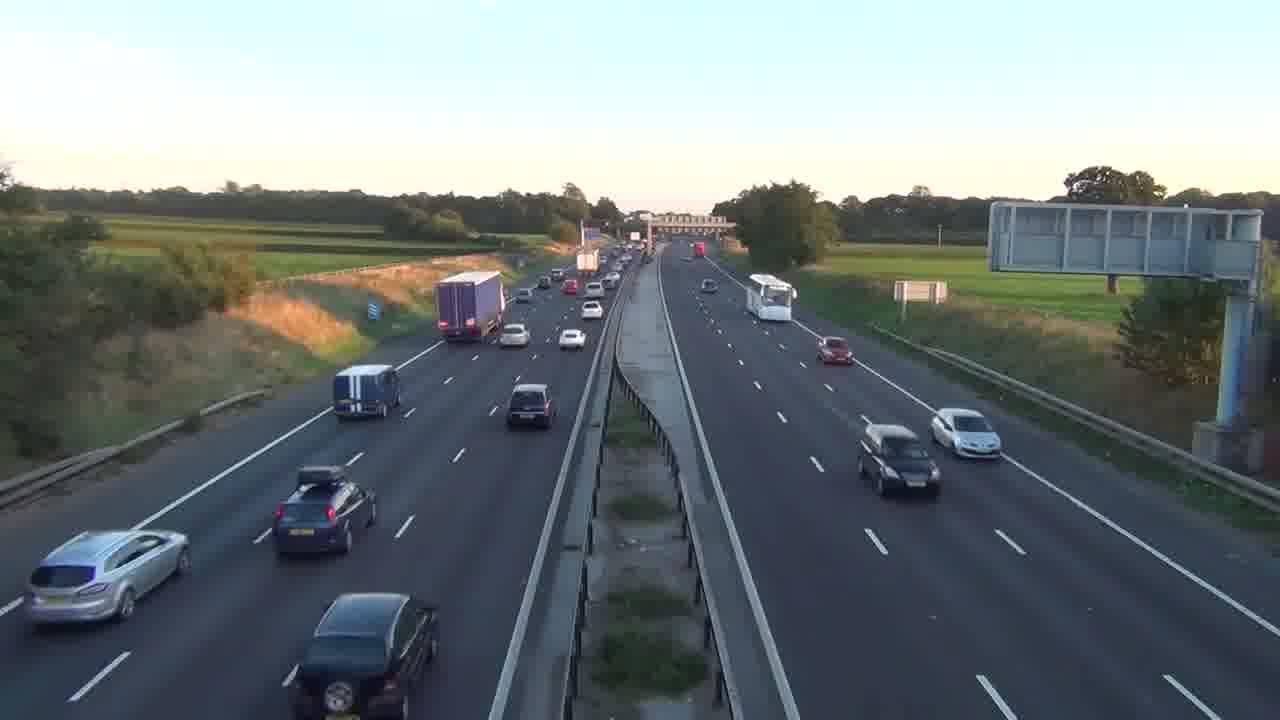bus: (334, 363, 402, 420)
car: (280, 591, 440, 718), (23, 525, 192, 631), (270, 475, 377, 557), (856, 418, 942, 499), (929, 406, 1003, 461), (507, 382, 558, 429), (816, 336, 854, 366), (497, 322, 530, 348), (558, 328, 586, 351)
truck: (435, 269, 506, 342)
